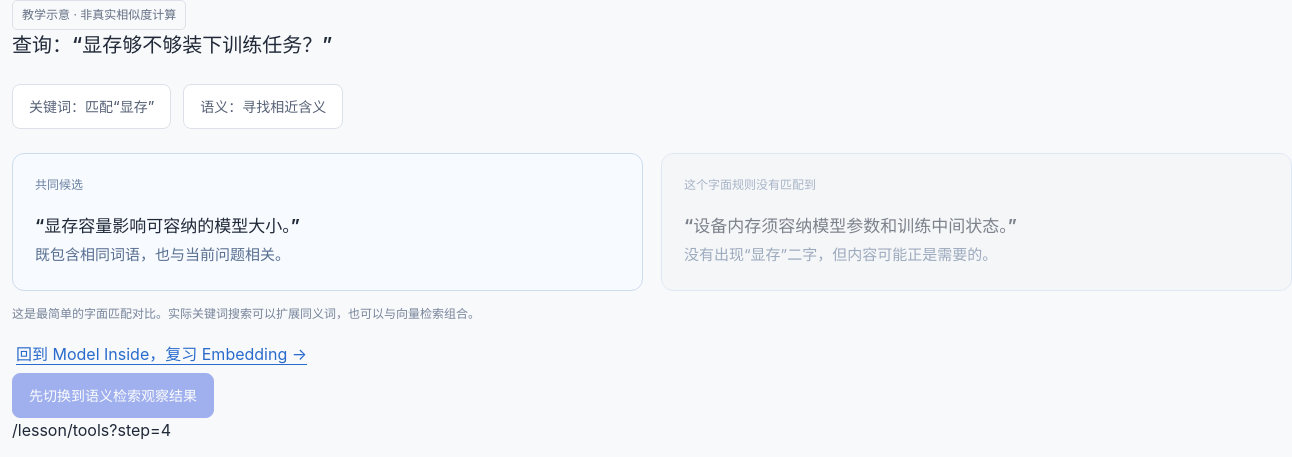
GitHub Pages hash route anchors › keeps the RAG review link inside the Pages hash route and repository base
Click the link "回到 Model Inside，复习 Embedding →": (162, 354) x1=16 y1=344 x2=307 y2=364
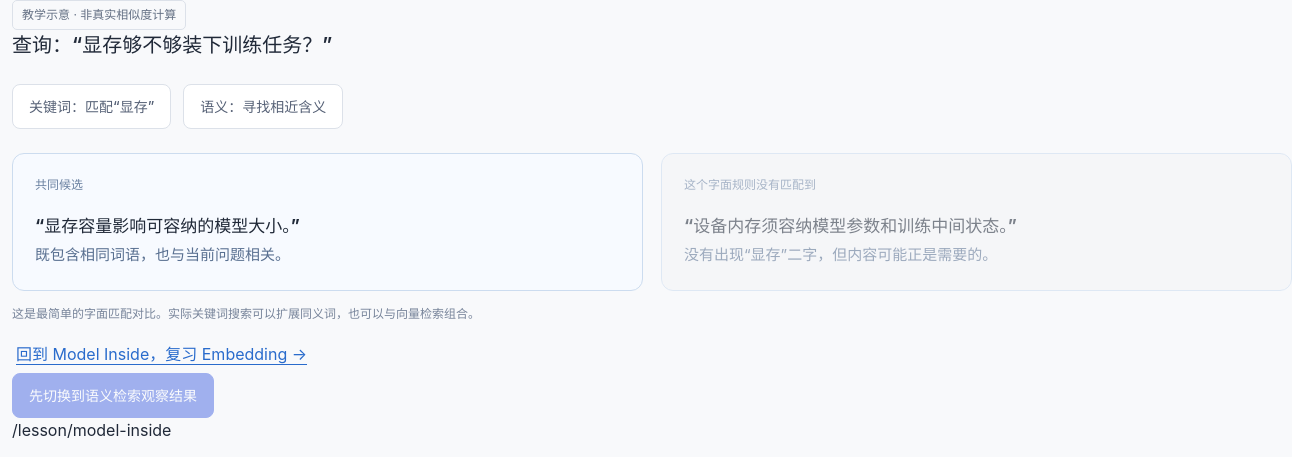
Expected: the text with test id "route" reads "/lesson/model-inside", x1=12 y1=420 x2=171 y2=440
